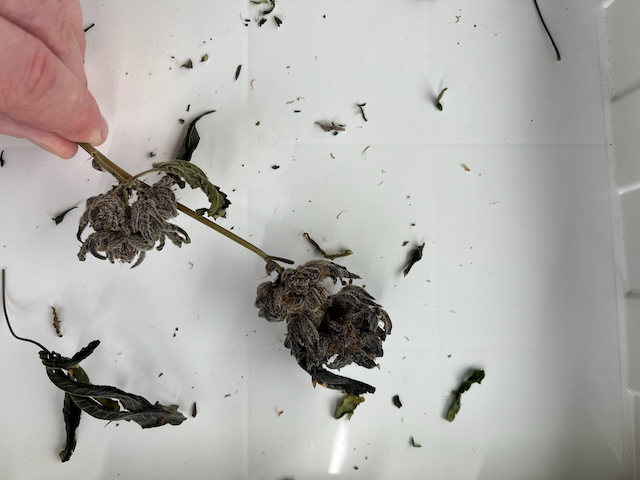Bud: (291, 287, 393, 381), (92, 179, 178, 267), (267, 260, 330, 319)
